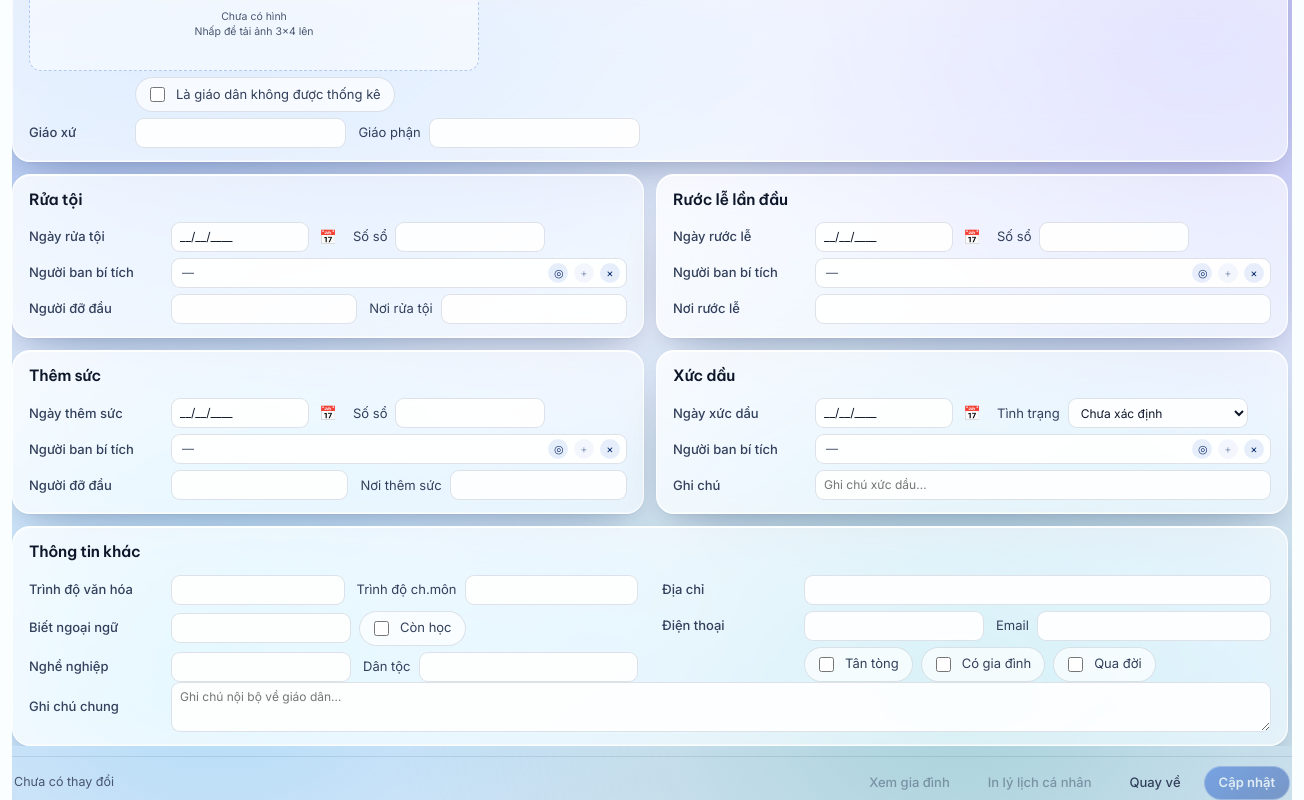
Test: GiaoDanDetail › tick o danh dau (Tan tong) cung bao Co thay doi chua luu
(page scrolled)
Click the checkbox labelled "Tân tòng".
click(826, 664)  # box [819,656,834,672]
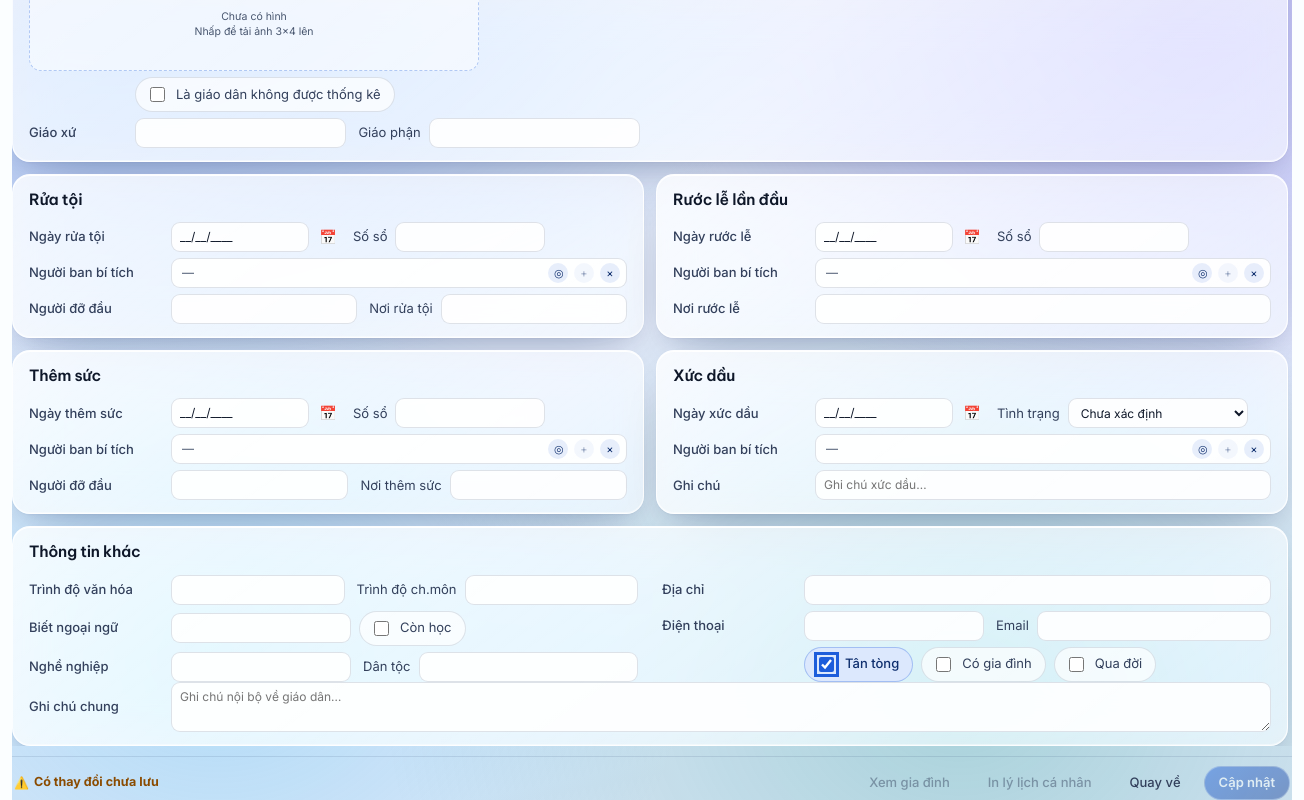
Check: the text "Có thay đổi chưa lưu" is shown, box [14,773,159,792]
